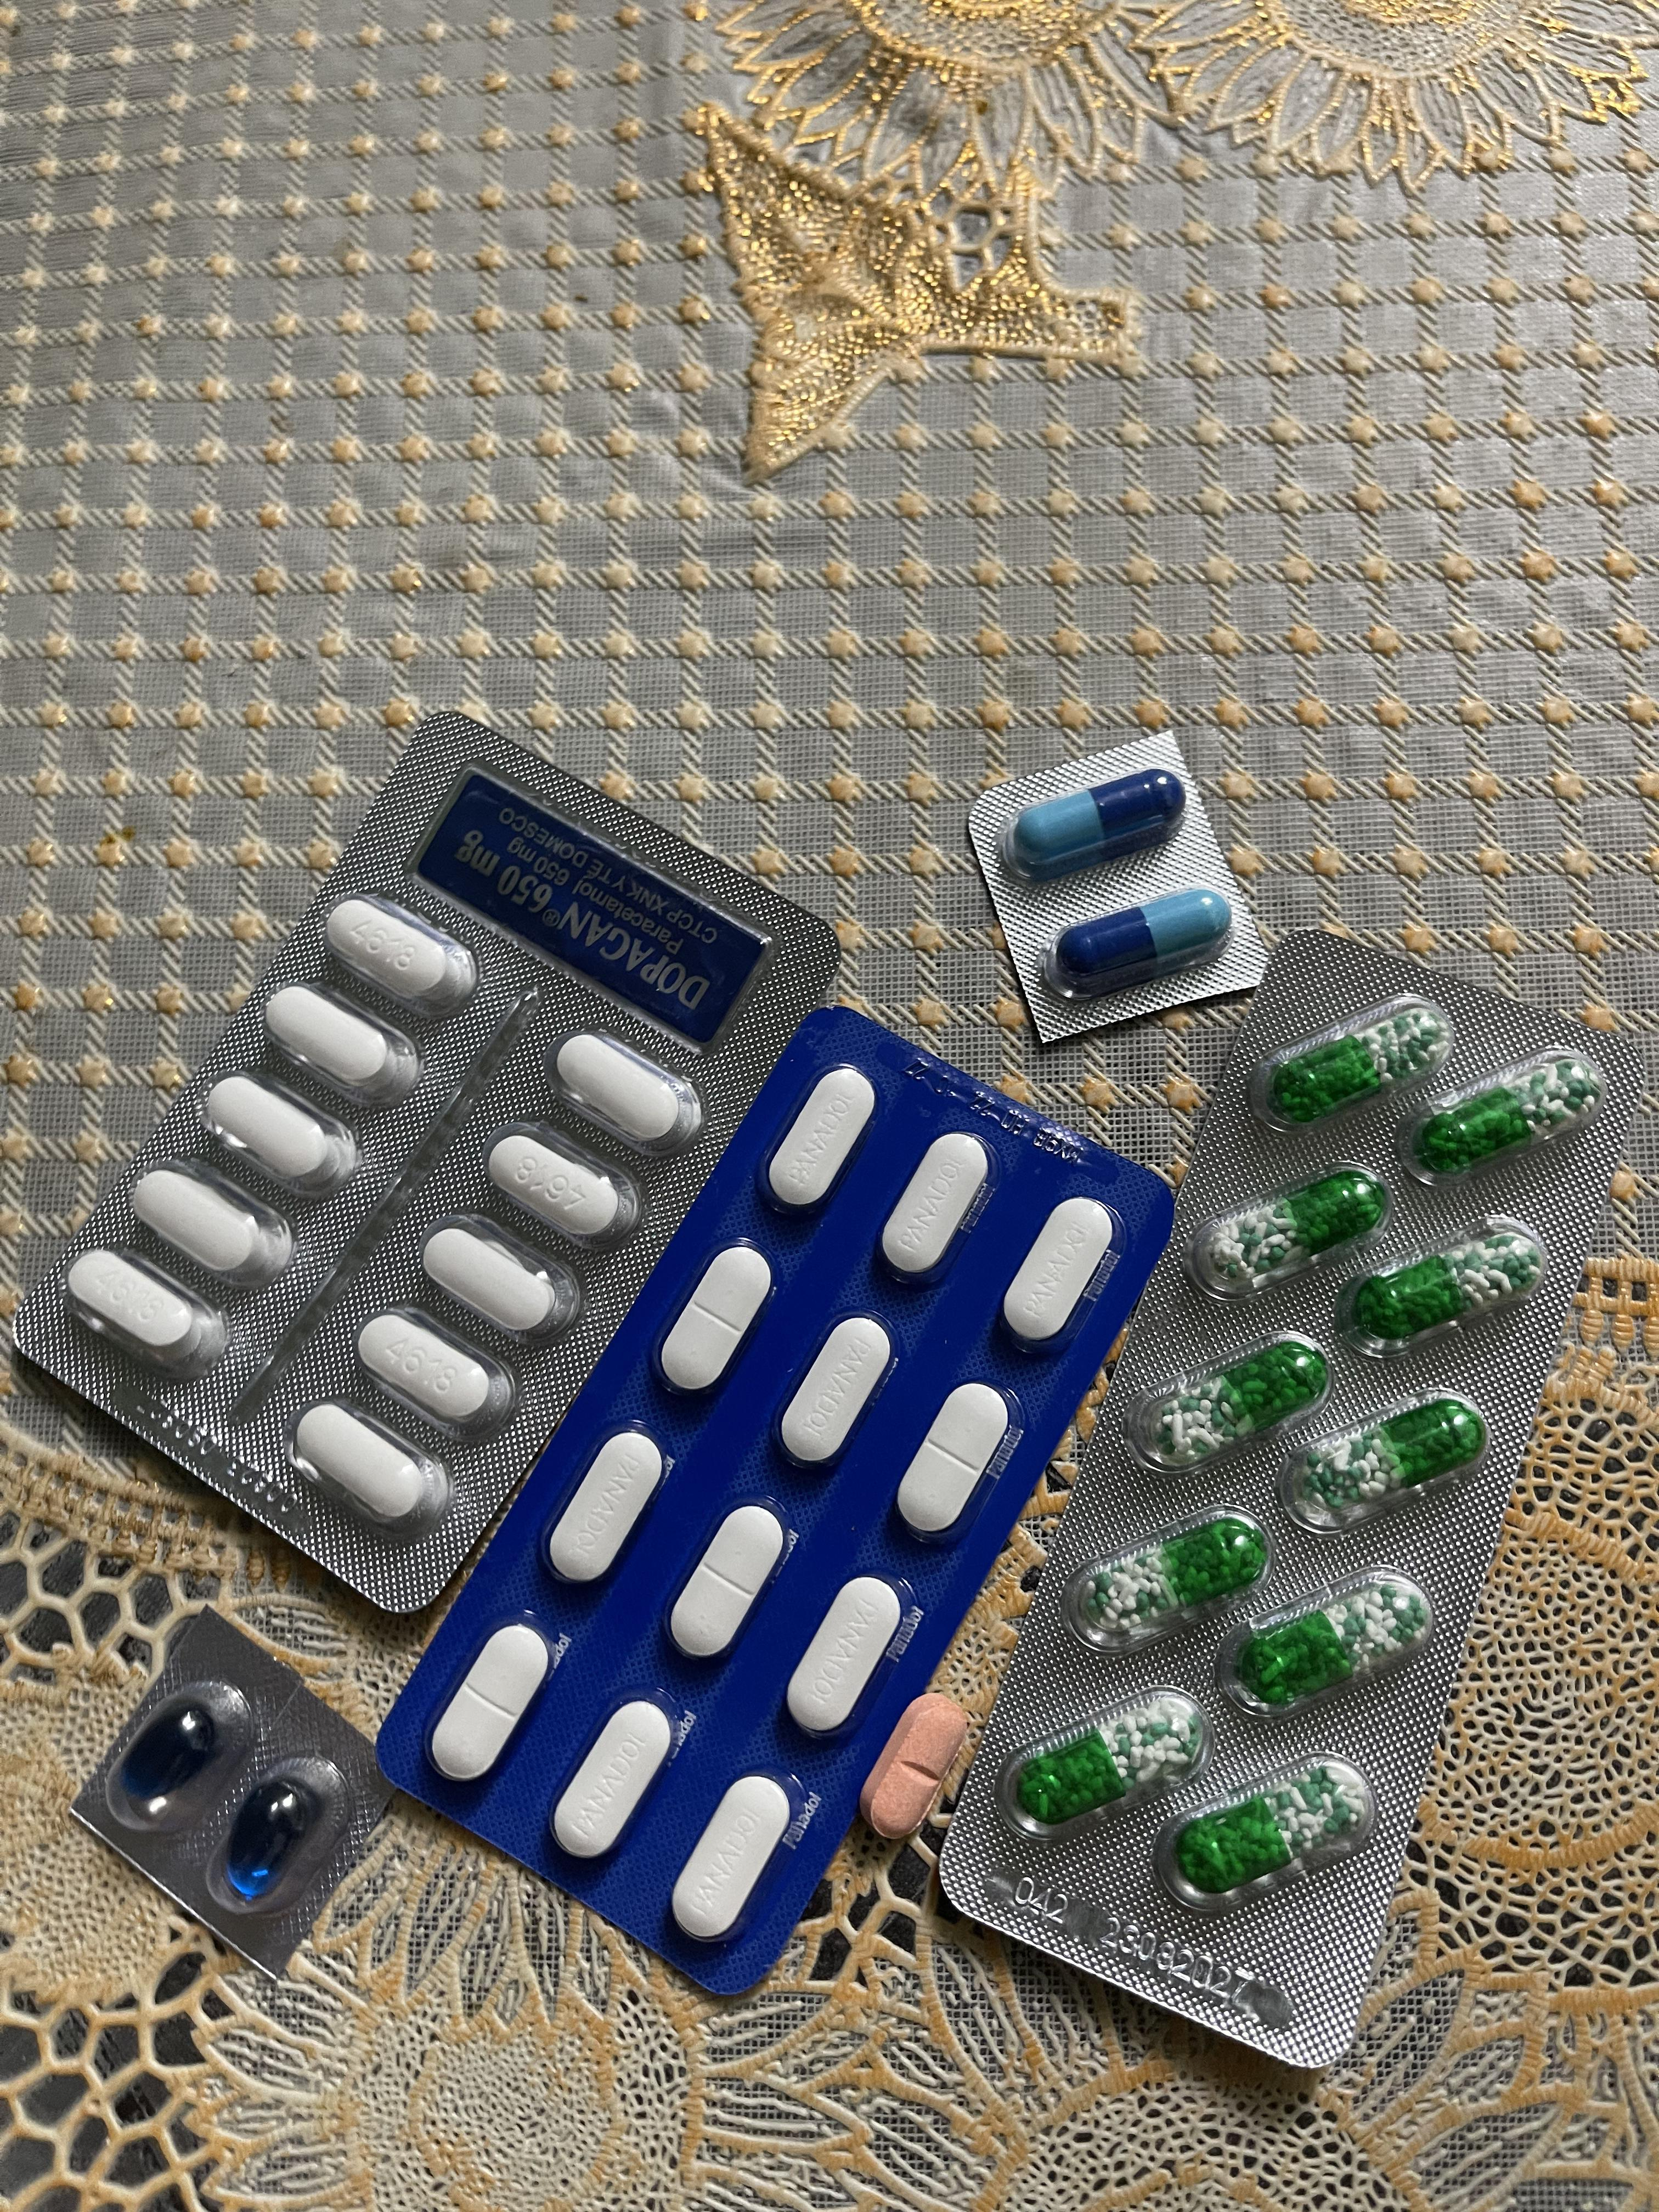Lincomyxin_500mg: (113, 1698, 228, 1817), (221, 1777, 321, 1904)
Loratadine_10mg: (864, 1693, 969, 1841)
Paracetamol_350mg: (552, 1698, 676, 1862), (673, 1775, 793, 1942), (544, 1432, 669, 1587), (429, 1622, 551, 1780), (788, 1573, 904, 1735), (671, 1501, 786, 1660), (897, 1383, 1011, 1543), (659, 1238, 772, 1397), (782, 1313, 897, 1468), (1000, 1195, 1117, 1345), (878, 1130, 993, 1277), (765, 1068, 880, 1212)
Paracetamol_500mg: (267, 982, 429, 1116), (70, 1244, 227, 1378), (293, 1400, 436, 1531), (328, 900, 481, 1017), (199, 1068, 342, 1184), (418, 1221, 563, 1334), (357, 1310, 497, 1426), (131, 1167, 272, 1277), (554, 1033, 690, 1144), (488, 1132, 626, 1238)
Paracetamol_650mg: (1223, 1566, 1439, 1716), (1180, 1764, 1371, 1897), (1145, 1341, 1326, 1465), (1295, 1402, 1481, 1522), (1413, 1059, 1600, 1172), (1019, 1696, 1183, 1824), (1204, 1174, 1384, 1287), (1084, 1517, 1265, 1629), (1267, 1010, 1448, 1120), (1361, 1233, 1541, 1341)
pill: (1053, 885, 1229, 998), (1011, 770, 1183, 883)
